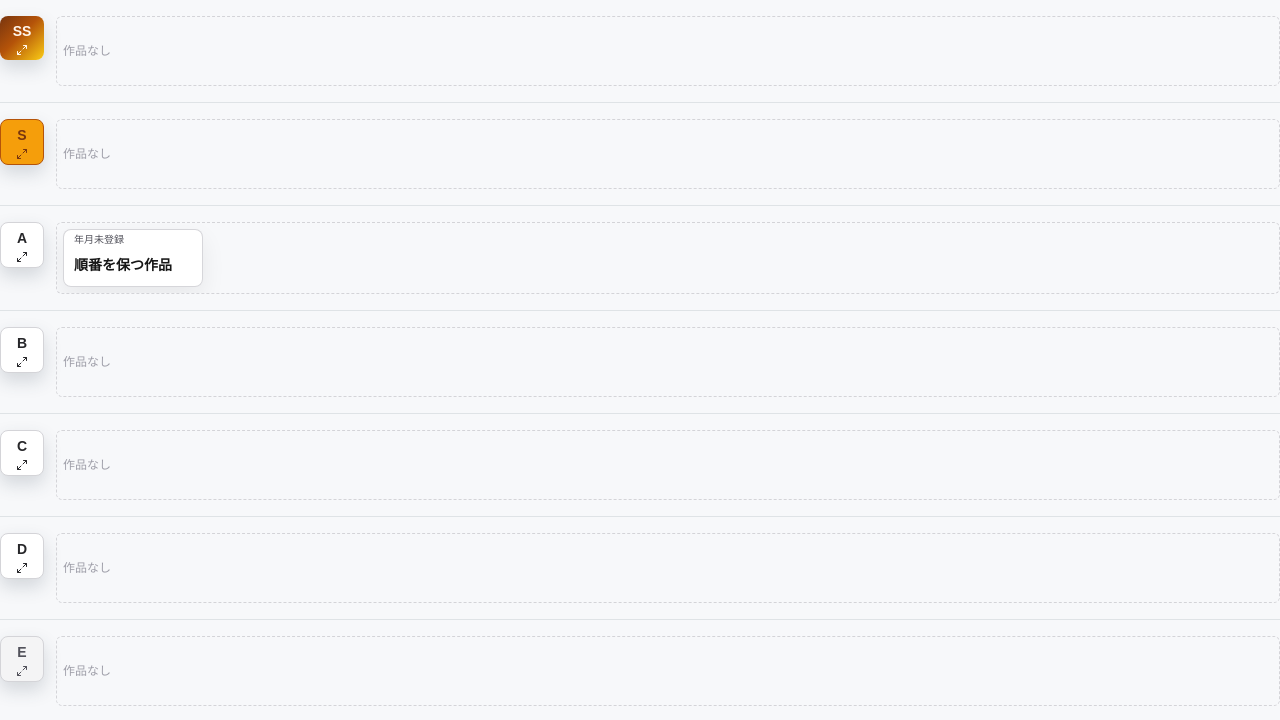
Test: does not accidentally append a work when its placement is saved unchanged
This screenshot has width=1280, height=720.
Click the button with aria-label "順番を保つ作品を移動".
click(133, 258)  # box [64, 230, 202, 286]
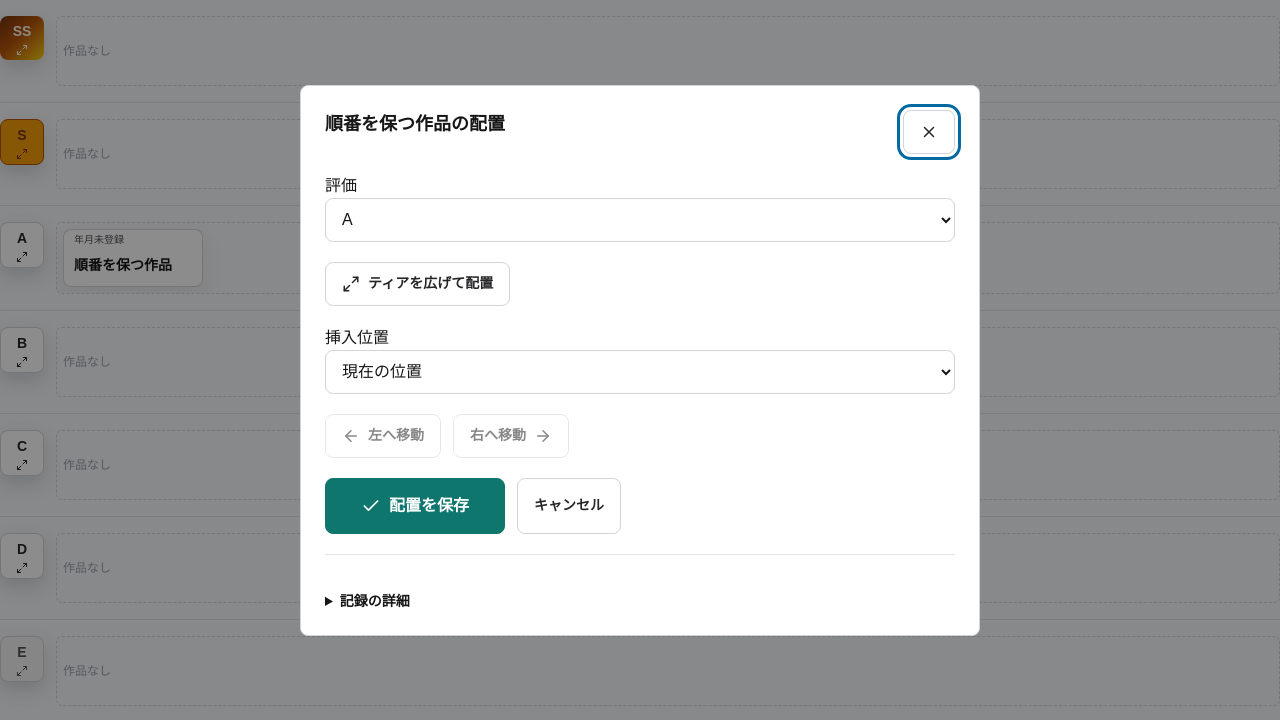
Click the button "配置を保存".
click(415, 506)  # box [325, 478, 505, 534]
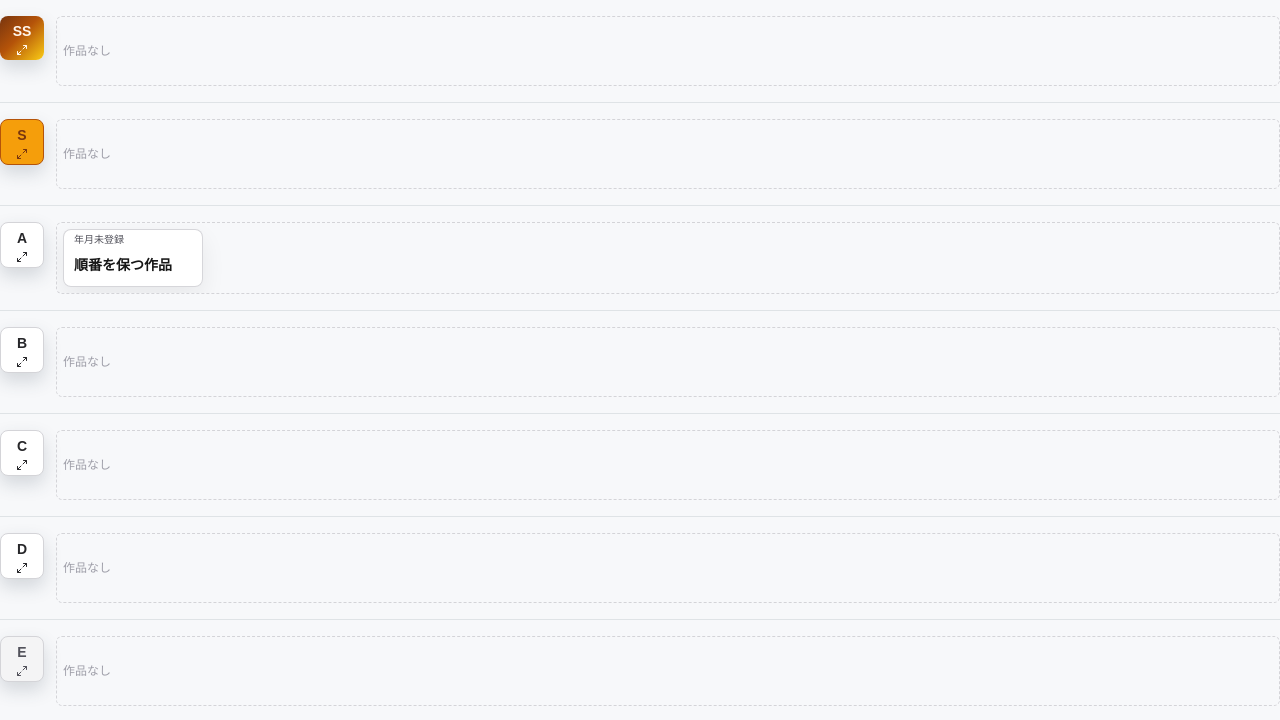
Now the dialog is gone
